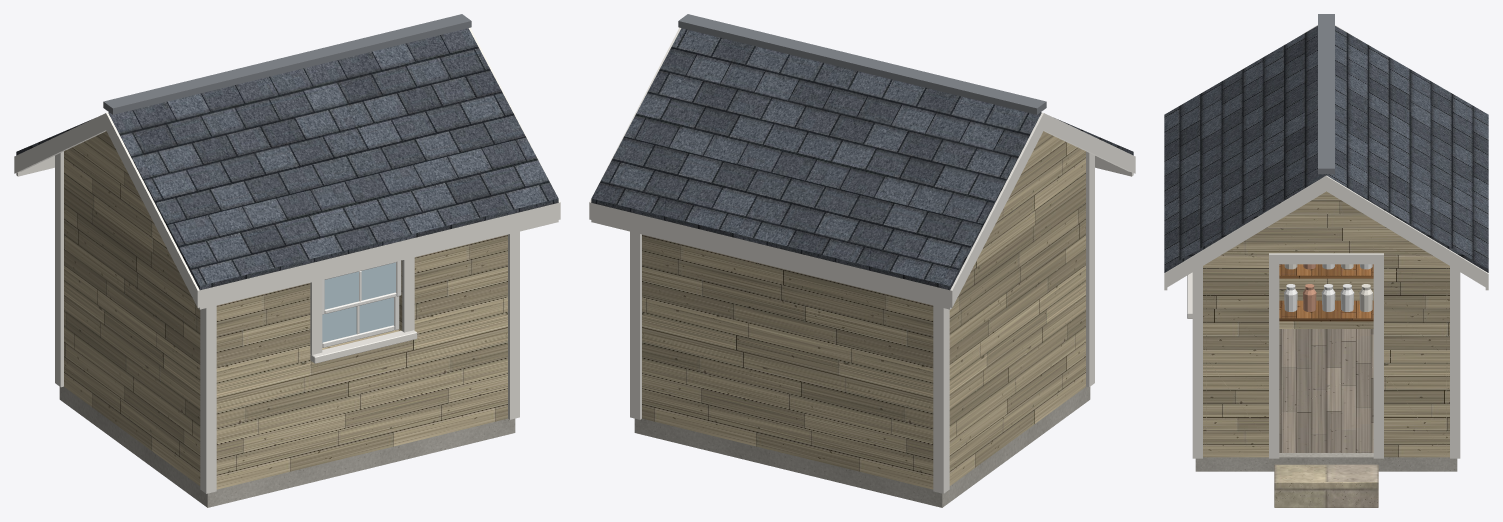
File: shed.glb
3 views of the same model, side by side, from view 1: azimuth 30°, elevation 25°; view 2: azimuth 150°, elevation 25°; view 3: azimuth 270°, elevation 25° (orthographic). The views are drawn at different scales.
Visible parts, largest first — view 1: shed_siding, shed_shingles, shed_trim, shed_concrete, shed_ridge, shed_glass, shed_sash; view 2: shed_siding, shed_shingles, shed_trim, shed_concrete, shed_ridge; view 3: shed_shingles, shed_siding, shed_trim, shed_deck, shed_stone_t, shed_concrete, shed_ridge, shed_oak, shed_porcelain, shed_cream, shed_clay.
Part boxes in pixels (box(x1,y1,x2,y2)): shed_siding: box(64, 131, 507, 489); shed_shingles: box(16, 28, 558, 290); shed_trim: box(14, 27, 560, 493); shed_concrete: box(59, 386, 515, 507); shed_ridge: box(103, 14, 471, 114); shed_glass: box(322, 262, 395, 342); shed_sash: box(322, 260, 401, 347); shed_siding: box(642, 131, 1085, 489); shed_shingles: box(591, 28, 1133, 290); shed_trim: box(589, 27, 1135, 493); shed_concrete: box(634, 386, 1090, 507); shed_ridge: box(678, 14, 1046, 114); shed_shingles: box(1164, 26, 1488, 272); shed_siding: box(1203, 191, 1449, 457); shed_trim: box(1164, 25, 1488, 458); shed_deck: box(1279, 329, 1373, 452); shed_stone_t: box(1274, 464, 1378, 507); shed_concrete: box(1195, 453, 1457, 471); shed_ridge: box(1318, 14, 1334, 174); shed_oak: box(1279, 264, 1373, 321); shed_porcelain: box(1284, 264, 1372, 311); shed_cream: box(1284, 264, 1372, 311); shed_clay: box(1303, 264, 1316, 311).
Size of the model in its own units: 3.67 by 3.51 by 3.1.
13 materials, 6 textured.
